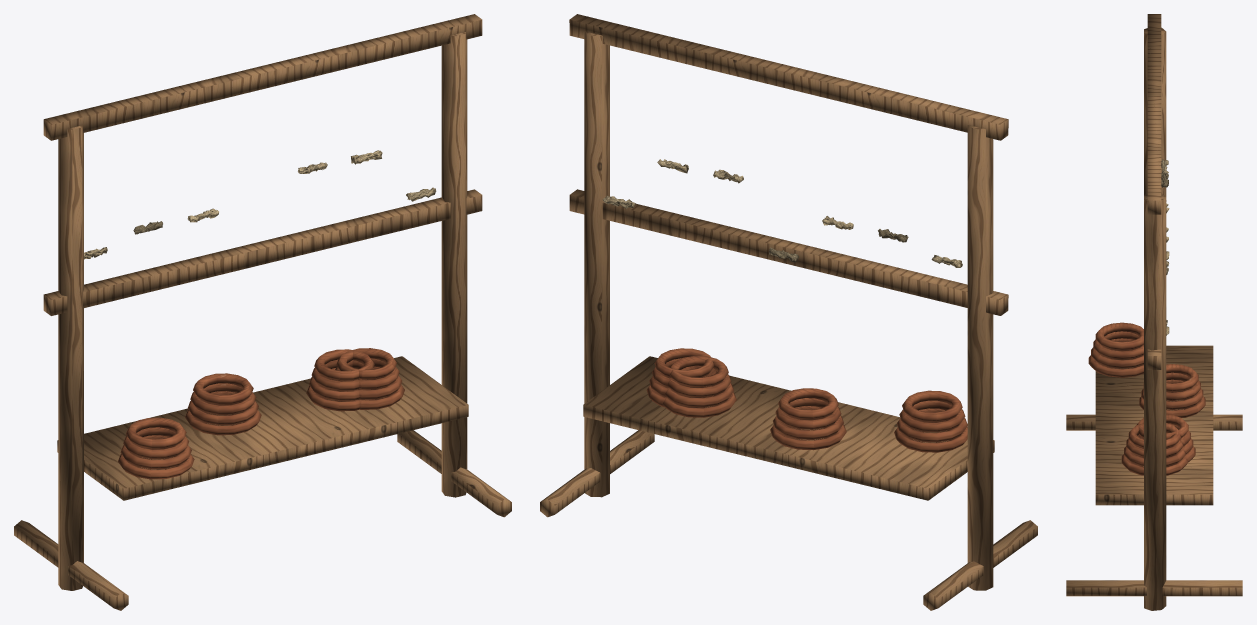
Rendered from rack_rope.glb.
3 views of the same model, side by side, from view 1: azimuth 30°, elevation 25°; view 2: azimuth 150°, elevation 25°; view 3: azimuth 270°, elevation 25° (orthographic). The views are drawn at different scales.
Parts seen in each view (by area): view 1: rack_rope; view 2: rack_rope; view 3: rack_rope.
Part boxes in pixels (left/top/right/bottom): rack_rope: left=14, top=14, right=511, bottom=610; rack_rope: left=540, top=14, right=1037, bottom=610; rack_rope: left=1066, top=14, right=1242, bottom=610.
Bounding box in the file's own units: 2.25 × 2.34 × 0.8997.
3 materials, 3 textured.
